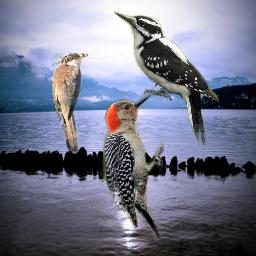Cuckoo: (52, 53, 88, 153)
Woodpecker: (113, 8, 219, 147), (98, 90, 164, 248)
